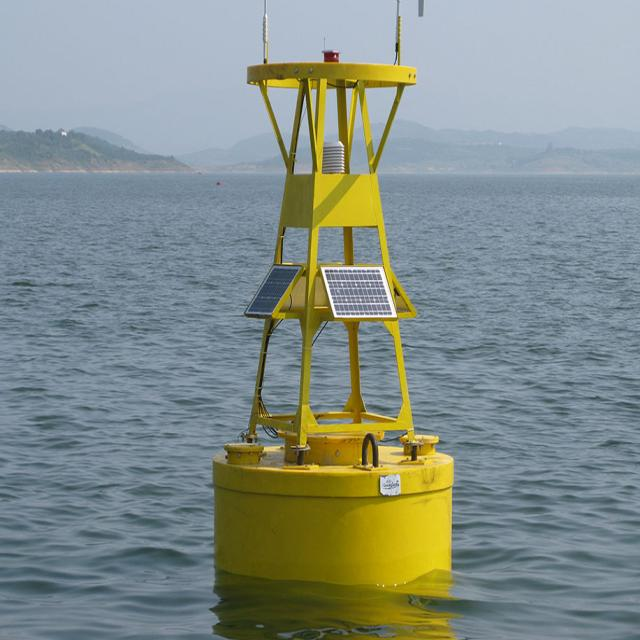buoy: (211, 0, 458, 584)
